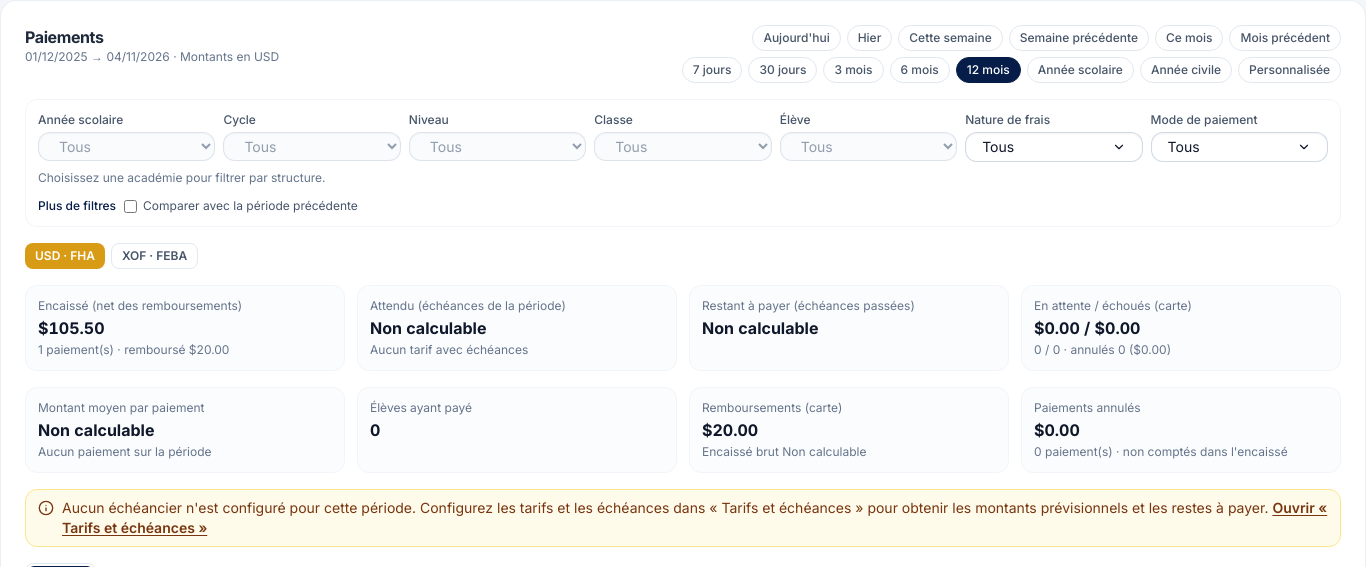
graphique des paiements › explique l'absence de tarif (lien direct) et signale les données partielles
Expected: the element with test id "ind-encaisse" is shown, [25,285,345,371]
Expected: the element with test id "tarifs-absents" shows "Aucun échéancier n'est configuré pour cette période", [62,499,1268,516]
Click the button with test id "devise-XOF". click: click(154, 256)
box: [111,243,198,269]
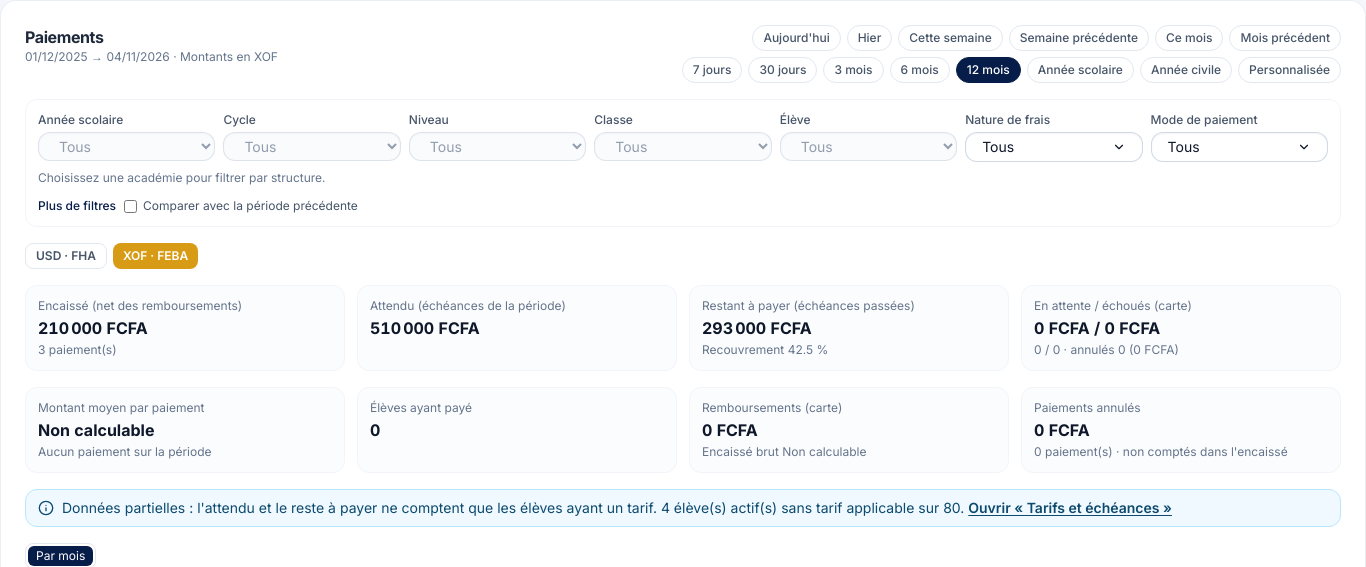
Expected: the element with test id "tarifs-partiels" shows "4 élève(s) actif(s) sans tarif applicable sur 80", [661,499,960,516]
